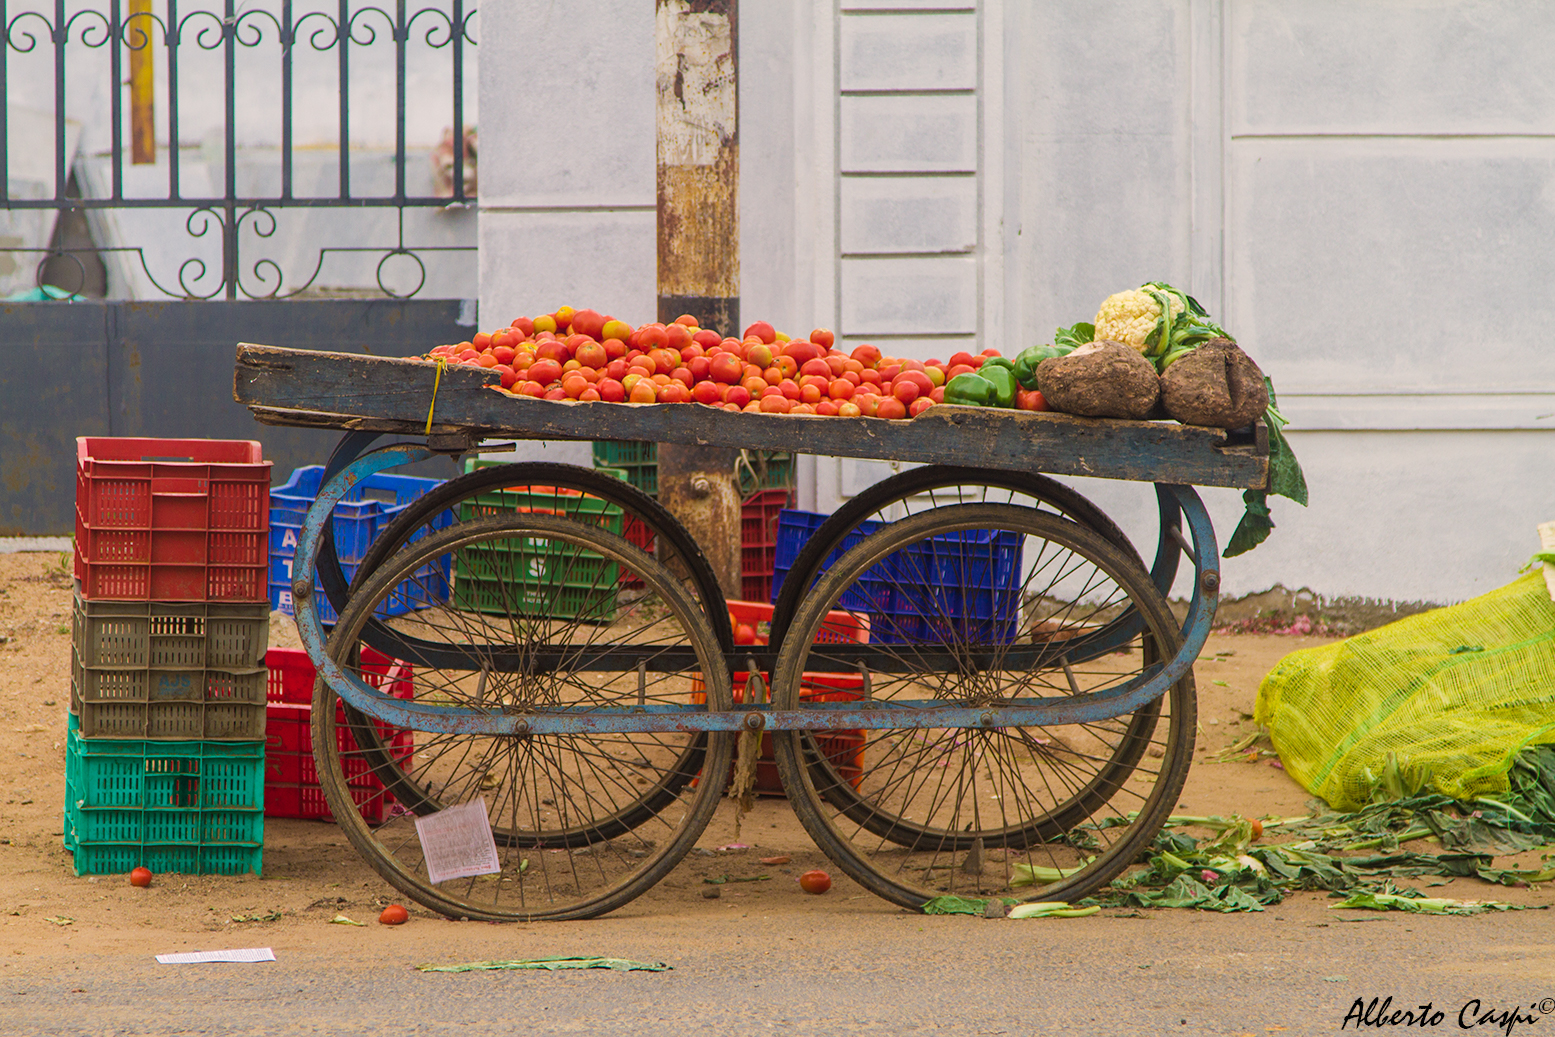cart: (233, 317, 1275, 915)
pole: (657, 2, 744, 591)
